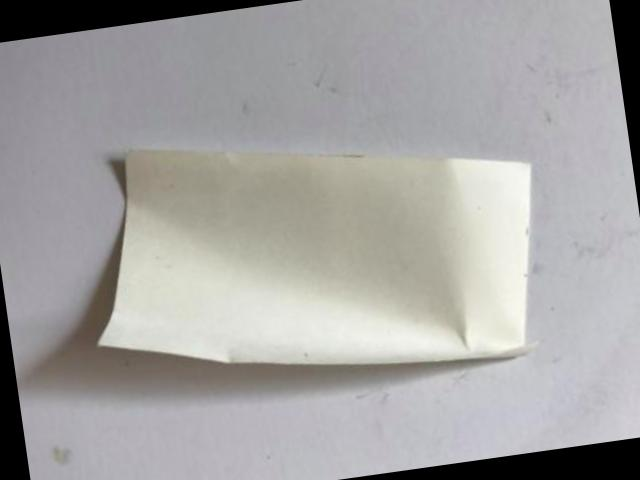cardboard paper: (101, 152, 532, 366)
